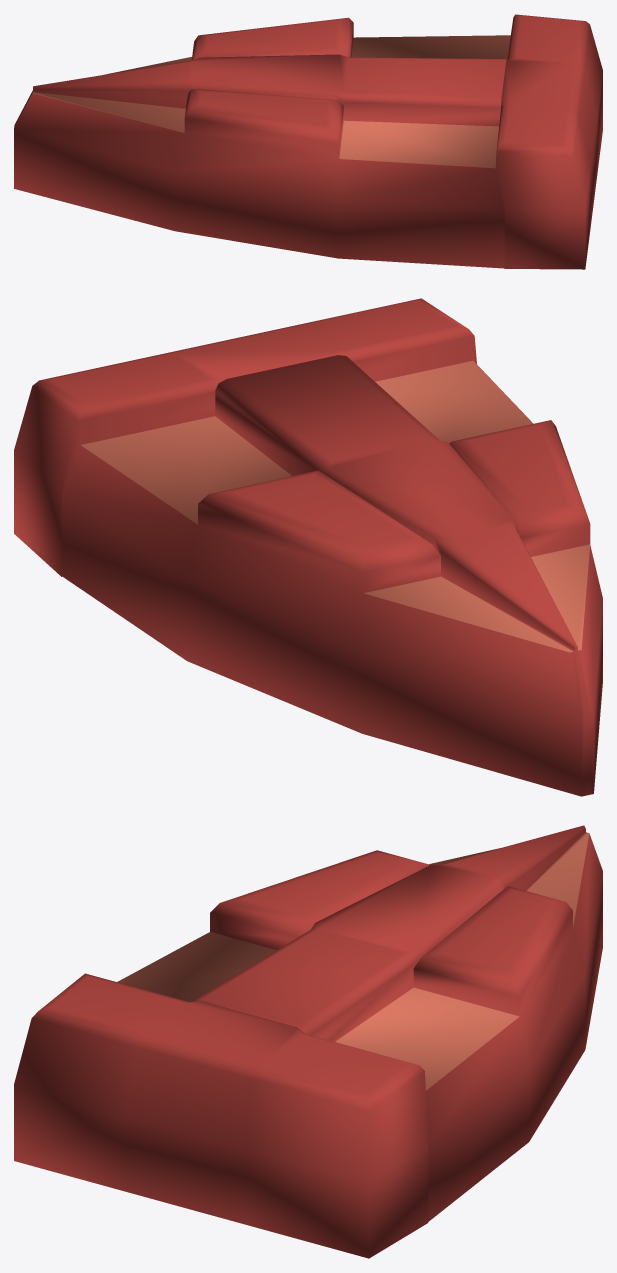
The model's file is Pie_Food.glb.
3 views of the same model, one above another, from view 1: azimuth 30°, elevation 25°; view 2: azimuth 150°, elevation 25°; view 3: azimuth 270°, elevation 25° (orthographic). The views are drawn at different scales.
Visible parts, largest first — view 1: Pie_Food; view 2: Pie_Food; view 3: Pie_Food.
Part boxes in pixels (x1,y1,x2,y2): Pie_Food: (14, 14, 602, 269); Pie_Food: (14, 298, 602, 796); Pie_Food: (14, 825, 602, 1258).
Size of the model in its own units: 0.0902 by 0.0208 by 0.0715.
1 material, 1 textured.
